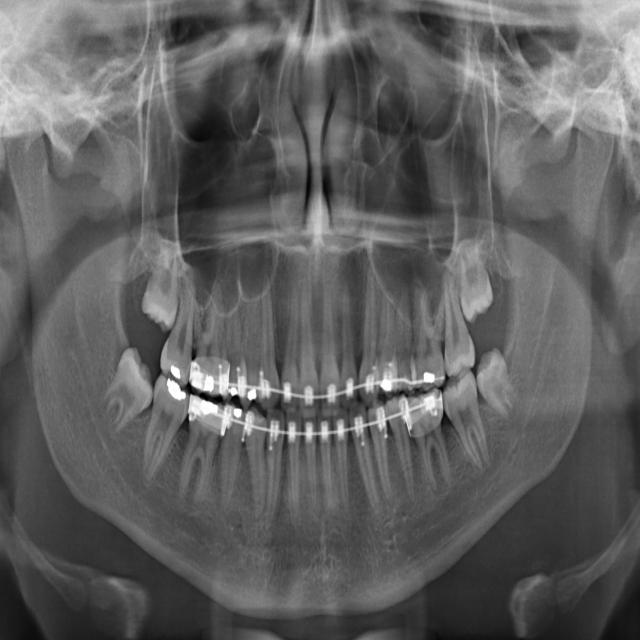AmalgamRestoration: (164, 375, 185, 407), (198, 394, 220, 418), (167, 355, 186, 382), (228, 403, 248, 420), (204, 371, 217, 393), (229, 382, 239, 403), (248, 388, 260, 403)
